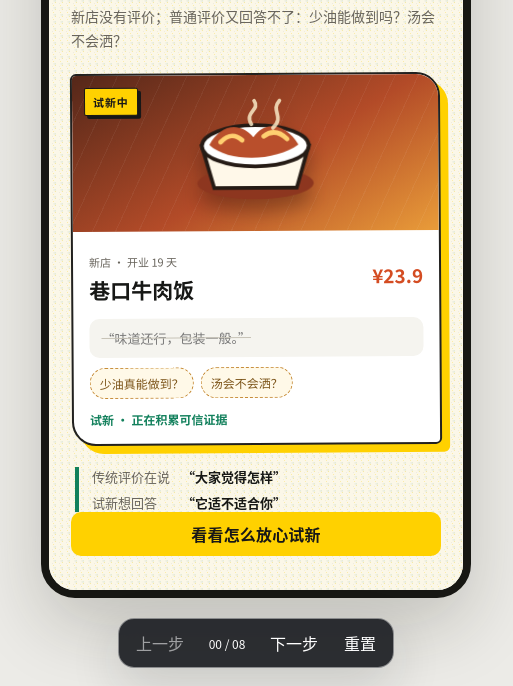
Test: legacy trial demo opening flow › moves from the pain point to the mixed trial entry
(page scrolled)
Click the button "看看怎么放心试新" at (256,534), box [71,512,441,556]
(page scrolled)
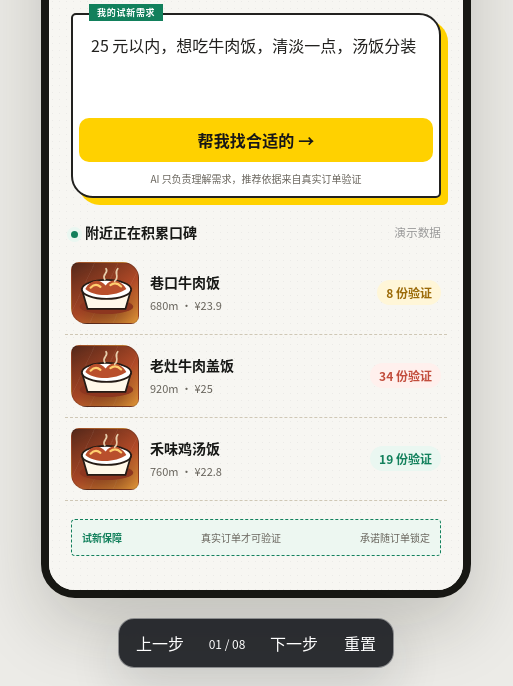
Expected: the text "附近正在积累口碑" is shown, [71,222,197,242]
